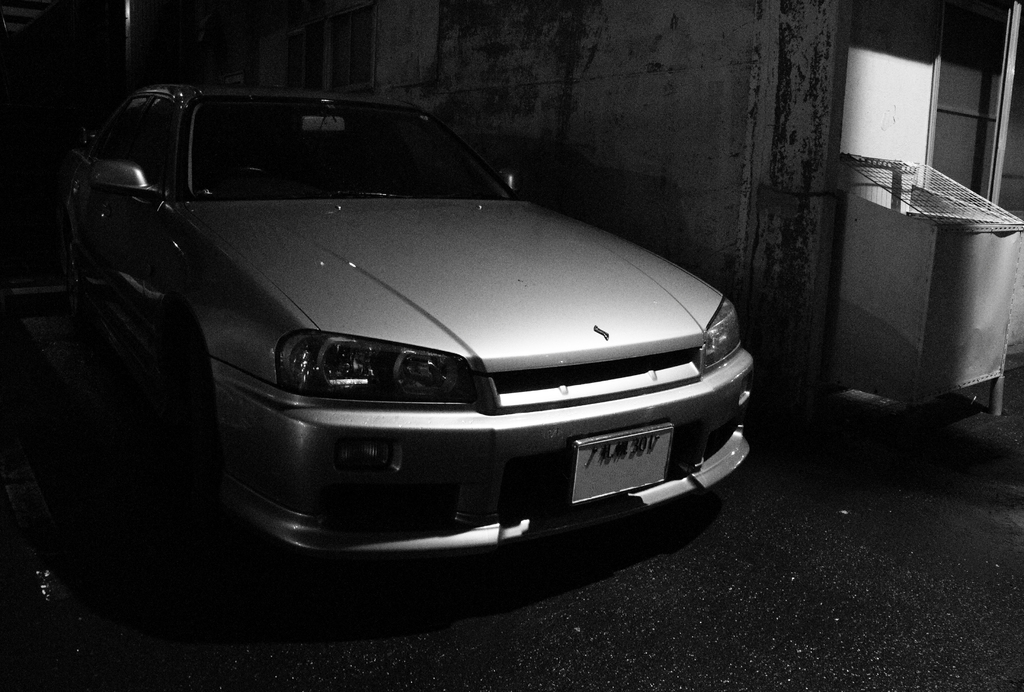Car: (71, 72, 742, 566)
